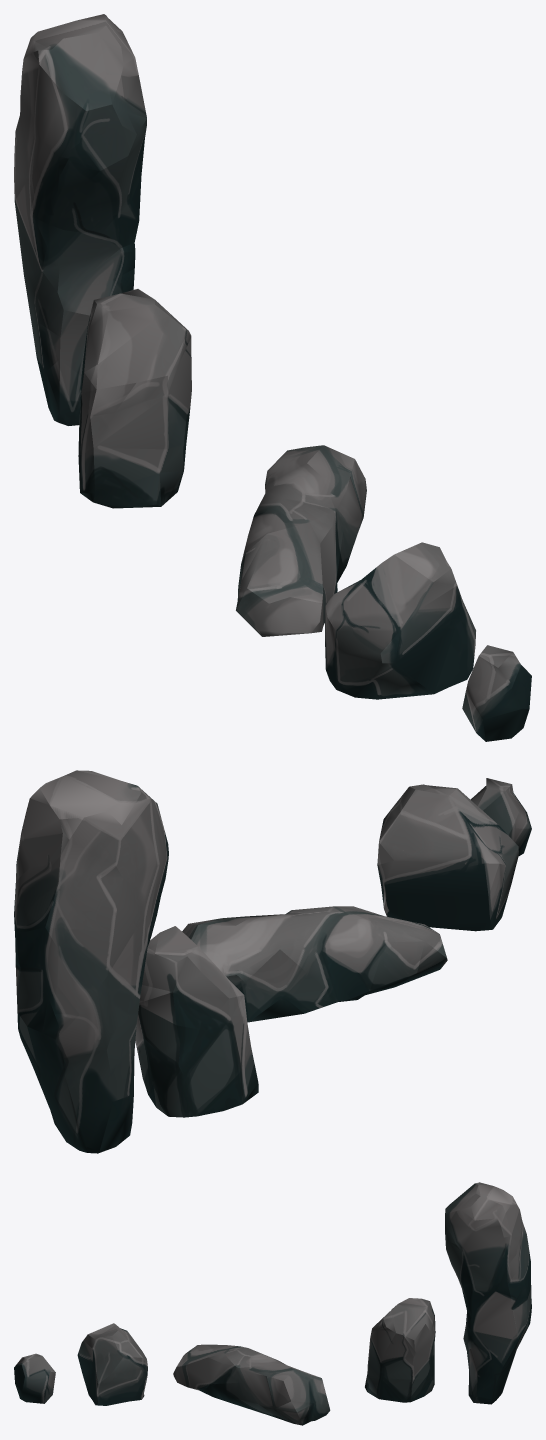
File: Regular runes.fbx
3 views of the same model, one above another, from view 1: azimuth 30°, elevation 25°; view 2: azimuth 150°, elevation 25°; view 3: azimuth 270°, elevation 25° (orthographic). The views are drawn at different scales.
Visible parts, largest first — view 1: StylRocksMagic_1_LOD2, StylRocksMagic_3_LOD2, StylRocksMagic_4_LOD2, StylRocksMagic_2_LOD2, StylRocksMagic_5_LOD2; view 2: StylRocksMagic_1_LOD2, StylRocksMagic_2_LOD2, StylRocksMagic_3_LOD2, StylRocksMagic_4_LOD2, StylRocksMagic_5_LOD2; view 3: StylRocksMagic_1_LOD2, StylRocksMagic_2_LOD2, StylRocksMagic_3_LOD2, StylRocksMagic_4_LOD2, StylRocksMagic_5_LOD2.
Part boxes in pixels (<box>): StylRocksMagic_1_LOD2: <box>14,14,146,425</box>; StylRocksMagic_3_LOD2: <box>78,289,191,508</box>; StylRocksMagic_4_LOD2: <box>325,542,475,699</box>; StylRocksMagic_2_LOD2: <box>236,445,366,636</box>; StylRocksMagic_5_LOD2: <box>462,645,531,741</box>; StylRocksMagic_1_LOD2: <box>14,770,168,1153</box>; StylRocksMagic_2_LOD2: <box>182,906,447,1022</box>; StylRocksMagic_3_LOD2: <box>135,926,258,1117</box>; StylRocksMagic_4_LOD2: <box>377,784,518,931</box>; StylRocksMagic_5_LOD2: <box>470,778,531,855</box>; StylRocksMagic_1_LOD2: <box>445,1182,531,1404</box>; StylRocksMagic_2_LOD2: <box>173,1344,330,1425</box>; StylRocksMagic_3_LOD2: <box>365,1298,435,1402</box>; StylRocksMagic_4_LOD2: <box>77,1323,147,1405</box>; StylRocksMagic_5_LOD2: <box>14,1353,55,1403</box>.
Size of the model in its own units: 14.08 by 23.77 by 53.19.
